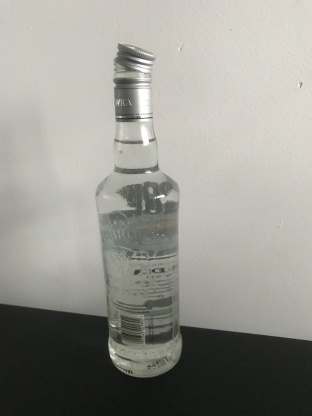nakretka: (111, 41, 156, 123)
